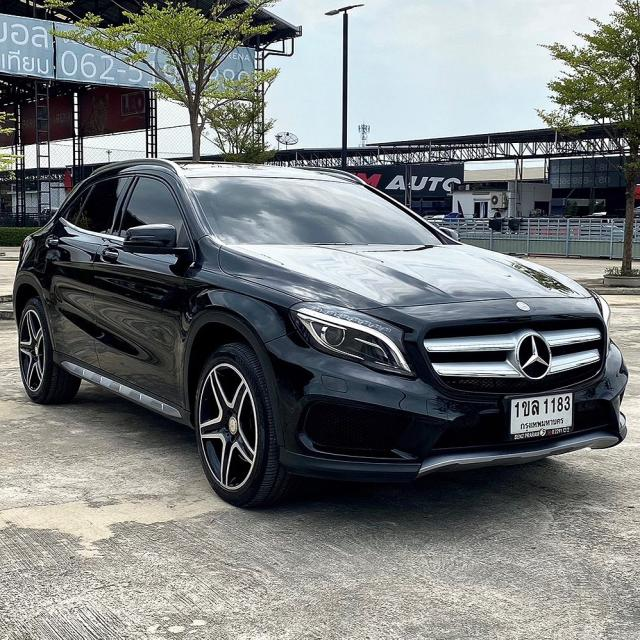license_plate: (502, 389, 577, 446)
